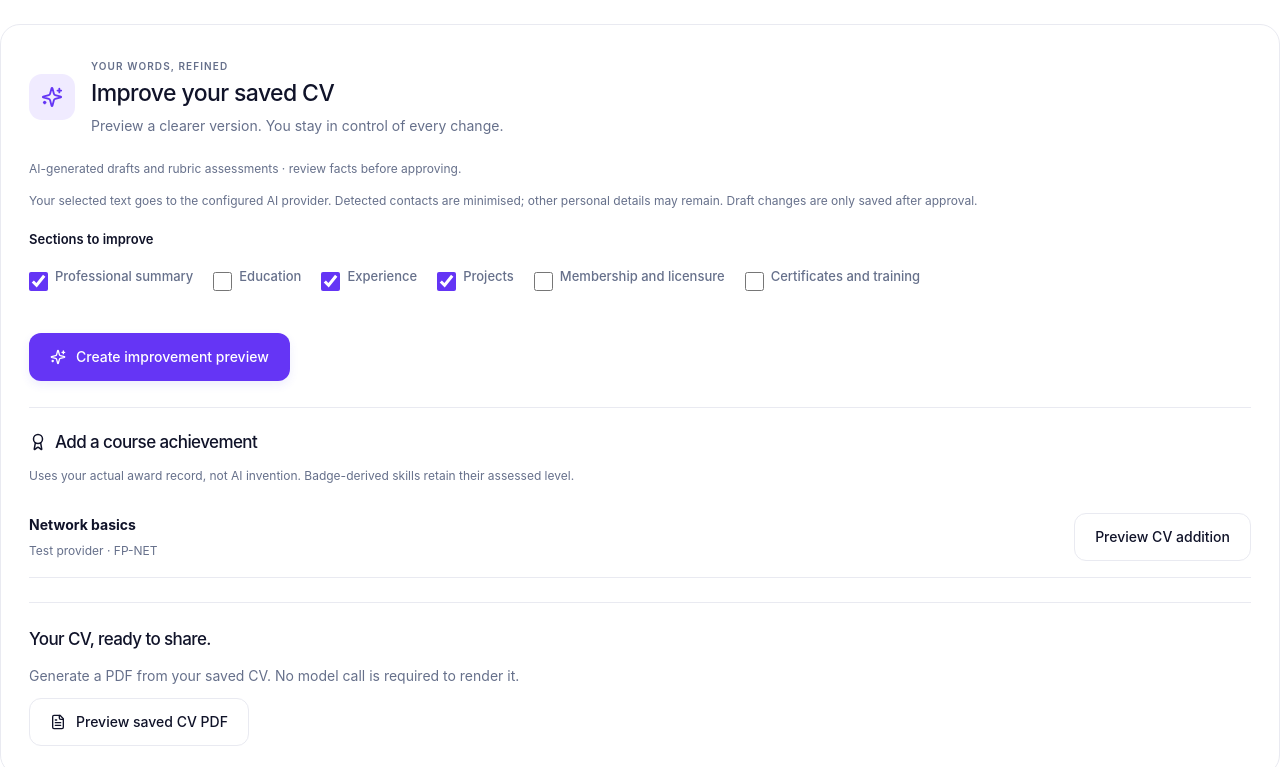
it: starts from an explicit preview action without consent gates and saves only approved edits
This screenshot has width=1280, height=767.
Expected: the button "Preview CV addition" is shown, [1074,513,1251,561]
Click the button "Create improvement preview" at (159, 357), box [29,333,290,381]
(page scrolled)
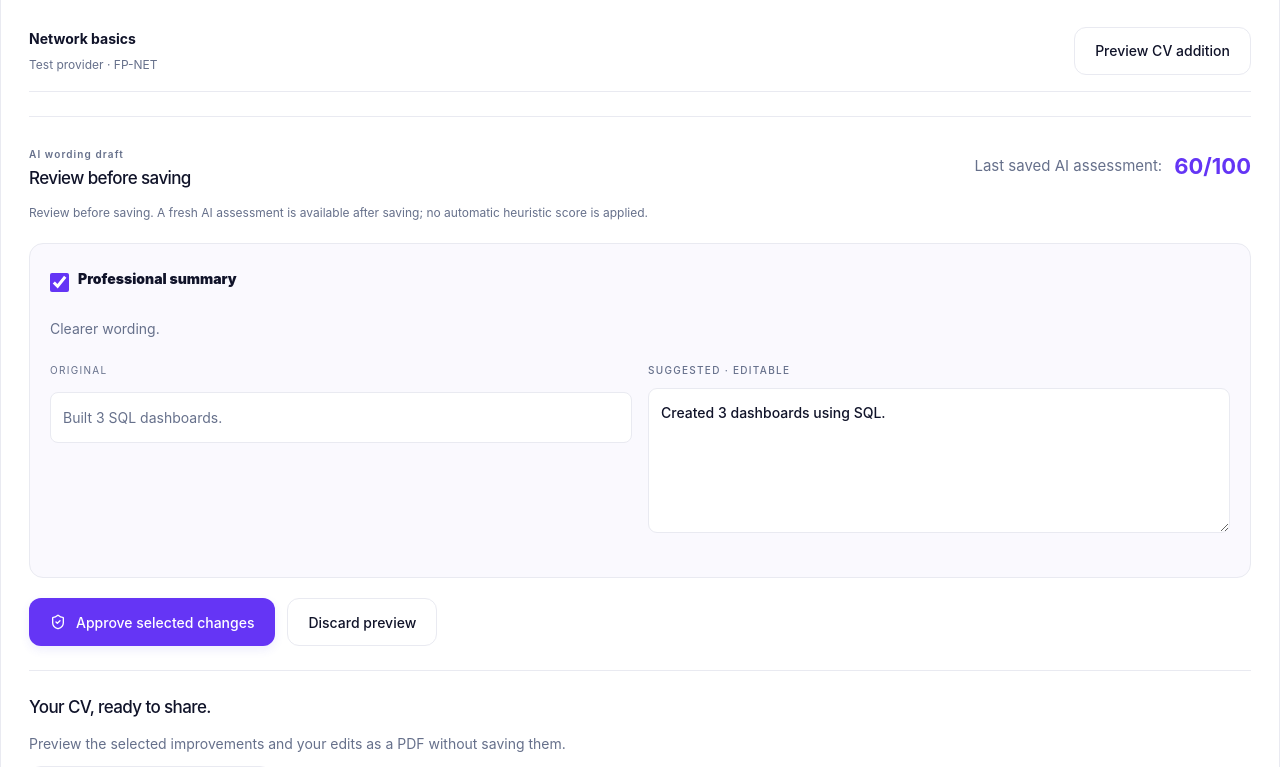
Expected: the heading "Review before saving" is shown, [29,166,191,192]
Replace the text in the text box with "Built 3 concise SQL dashboards." at (939, 461), box [648,388,1230,533]
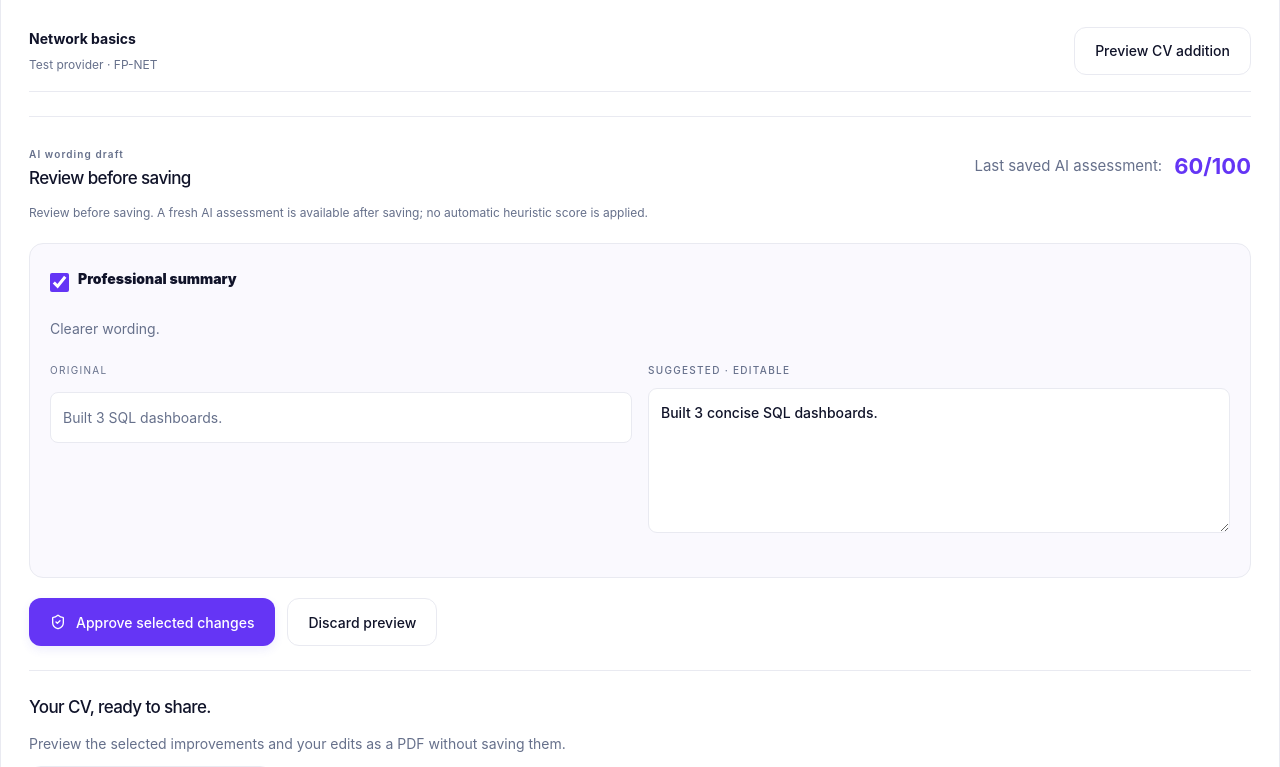
Click the button "Approve selected changes" at (152, 622), box [29,598,276,646]
(page scrolled)
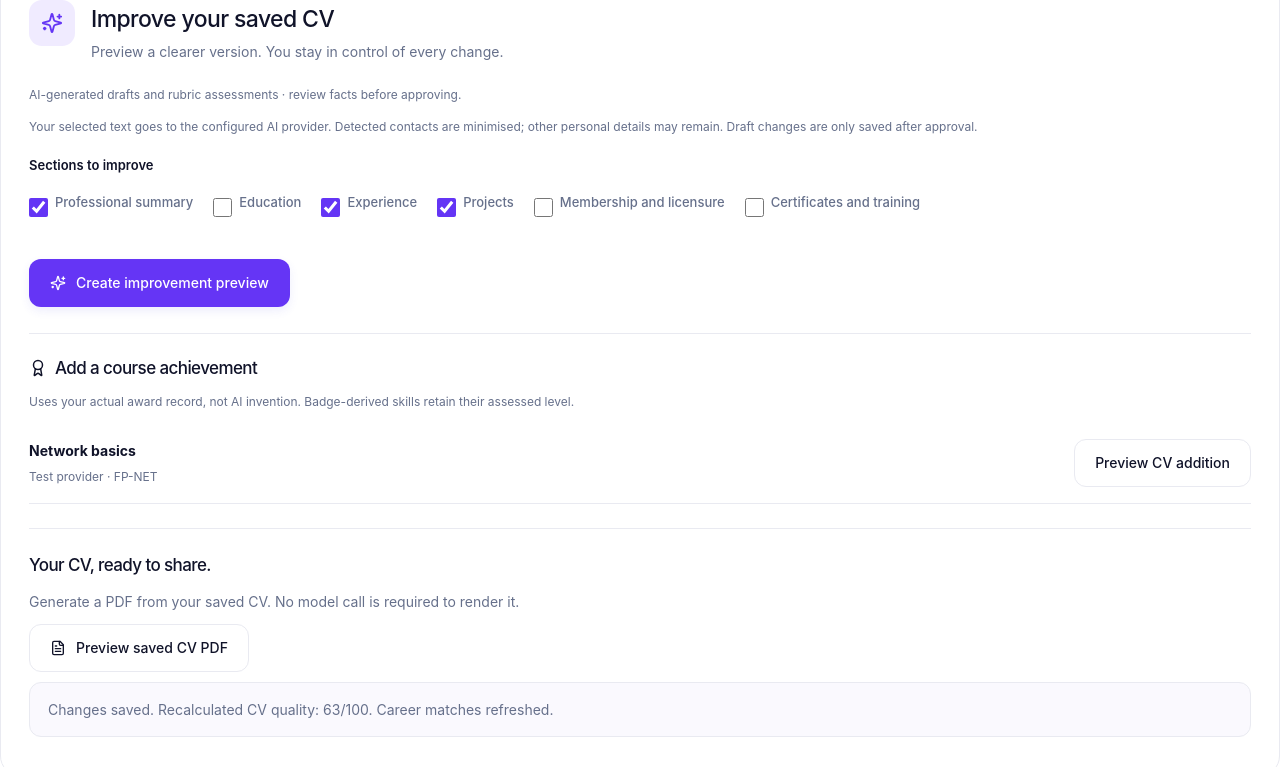
Expected: the message shows "63/100", [48,701,553,718]
